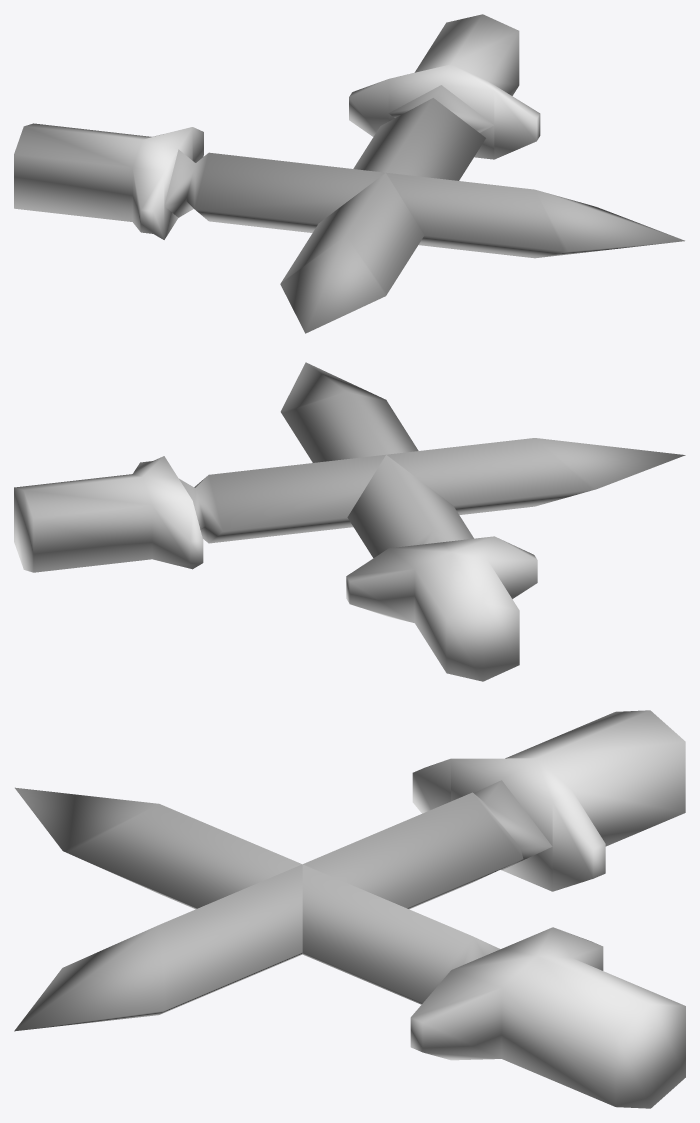
File: sword.fbx
3 views of the same model, one above another, from view 1: azimuth 30°, elevation 25°; view 2: azimuth 150°, elevation 25°; view 3: azimuth 270°, elevation 25° (orthographic). The views are drawn at different scales.
Visible parts, largest first — view 1: Sword, Color; view 2: Sword, Color; view 3: Sword, Color.
Boxes of the visible parts, <box> form: Sword: <box>164,85,684,333</box>; Color: <box>14,14,540,239</box>; Sword: <box>179,362,685,557</box>; Color: <box>14,456,537,681</box>; Sword: <box>14,780,552,1031</box>; Color: <box>410,710,685,1108</box>.
Bounding box in the file's own units: 43.47 × 6.52 × 38.11.
1 material, 1 textured.
